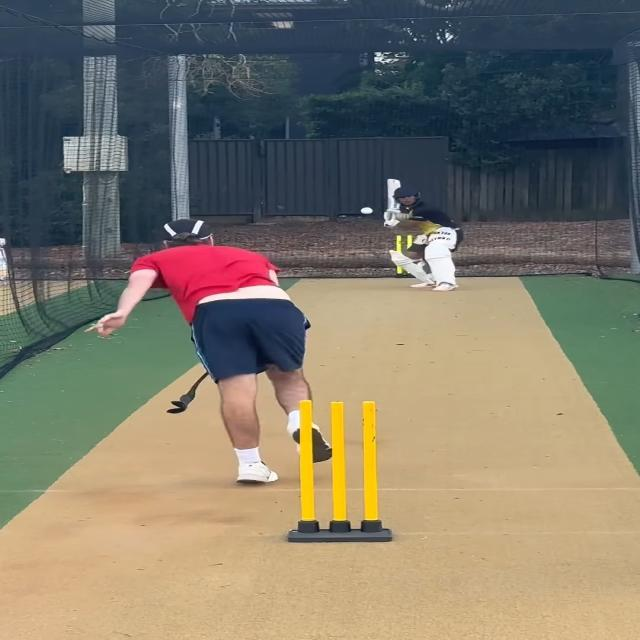ball: (358, 206, 375, 216)
stump: (288, 399, 394, 543)
